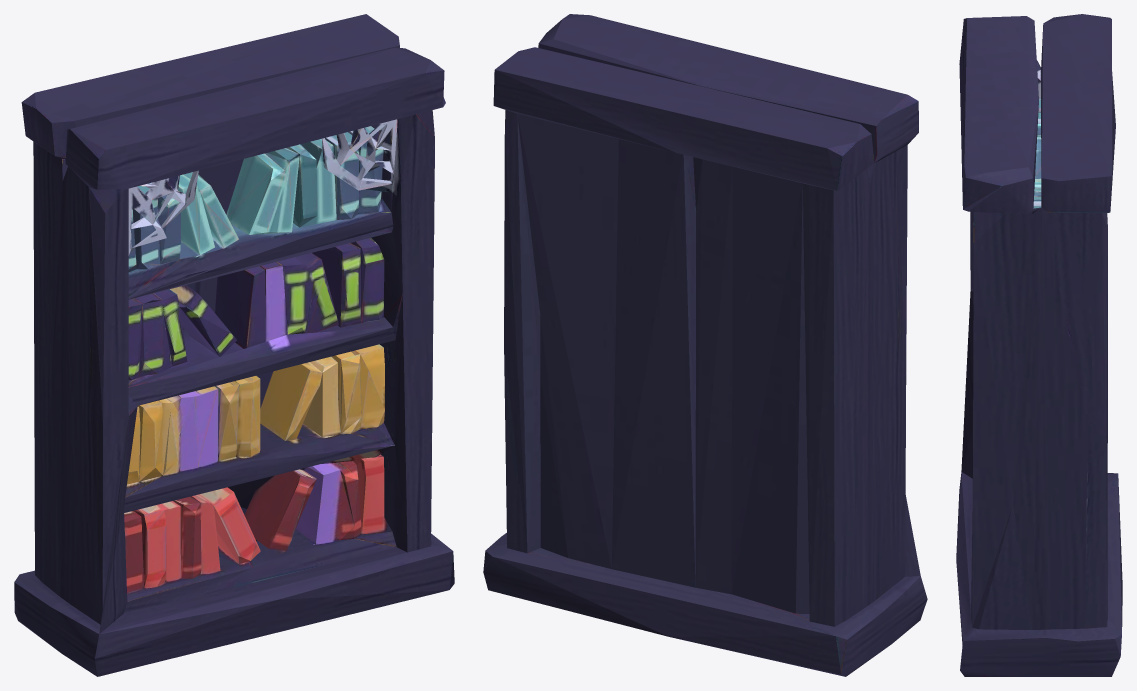
File: bookshelf.glb
3 renders of one model, left to right at view 1: azimuth 30°, elevation 25°; view 2: azimuth 150°, elevation 25°; view 3: azimuth 270°, elevation 25°, orthographic. The views are drawn at different scales.
Size of the model in its own units: 1.38 by 1.9 by 0.5725.
1 material, 1 textured.
